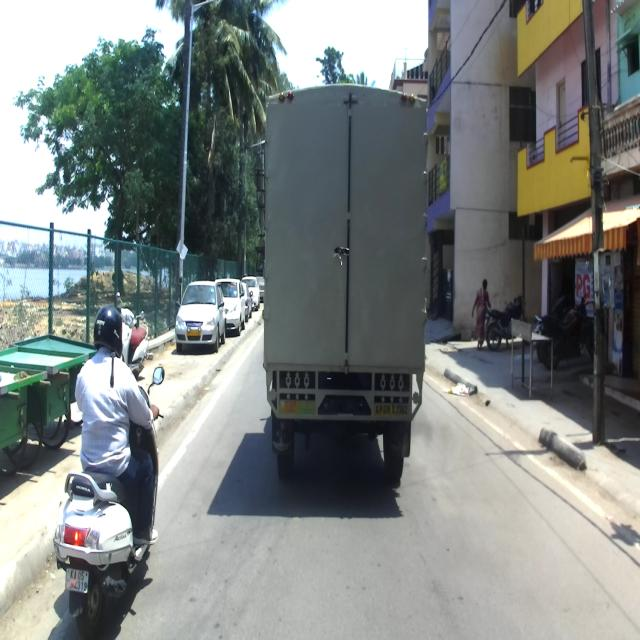car ahead at: (177, 275, 222, 352)
electric pole ahead at: (576, 0, 622, 453)
motorcycle ahead at: (57, 466, 158, 640)
truck ahead at: (263, 84, 427, 482)
